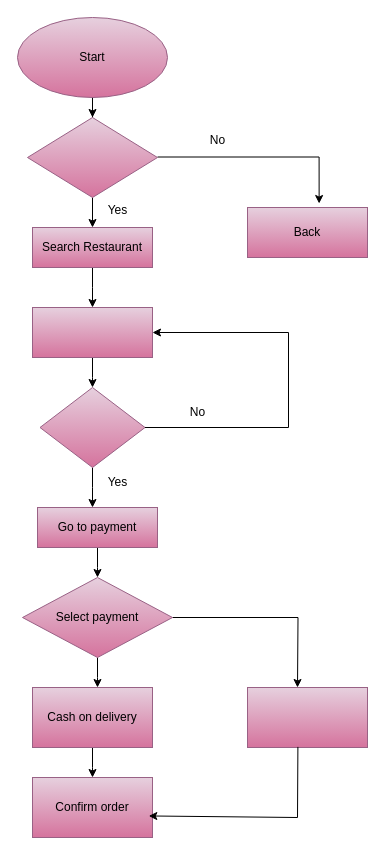
Some shapes in this 385 by 855 pixel diagram are drawn without their labels. The shapes that lost their labels are listed below. From the top down, each one's box as (x1, y1, x2, y2) in pixels, then its label:
(26, 116, 158, 198): Login
(32, 306, 152, 358): Select Food
(39, 386, 145, 468): Add to cart
(246, 686, 368, 748): UPI payment
